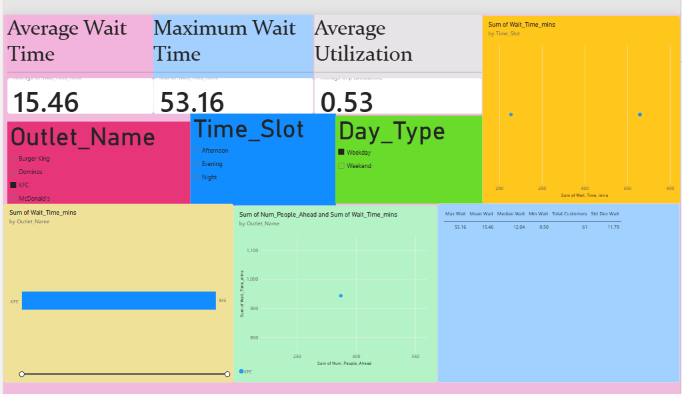

Layout of this report page (visuals, bound fields, positions):
{"tool":"powerbi","page":{"name":"Page 1","canvas":[1920,1080],"ordinal":0},"visuals":[{"type":"cardVisual","title":"Average Wait Time","fields":{"Data":["Avg(Data.Wait_Time_mins)"]},"box":[11.4,0,414.5,281],"z":0},{"type":"cardVisual","title":"Maximum Wait Time","fields":{"Data":["Max(Data.Wait_Time_mins)"]},"box":[425.8,0,454.2,281],"z":1},{"type":"cardVisual","title":"Average Utilization","fields":{"Data":["Avg(Queueing Params.ρ (Utilization))"]},"box":[882.2,0,475.5,280.7],"z":2},{"type":"slicer","fields":{"Values":["Data.Outlet_Name"]},"box":[11.5,303.6,518.4,237.7],"z":3},{"type":"slicer","fields":{"Values":["Data.Time_Slot"]},"box":[529.9,280.7,412.5,260.6],"z":4},{"type":"slicer","fields":{"Values":["Data.Day_Type"]},"box":[942.3,286.4,435.4,249.2],"z":5},{"type":"clusteredBarChart","fields":{"Category":["Data.Outlet_Name"],"Y":["Sum(Data.Wait_Time_mins)"]},"box":[0,535.6,653.1,507],"z":6},{"type":"scatterChart","fields":{"Category":["Data.Time_Slot"],"X":["Sum(Data.Wait_Time_mins)"]},"box":[1357.7,2.9,561.4,532.8],"z":7},{"type":"scatterChart","fields":{"Series":["Data.Outlet_Name"],"X":["Sum(Data.Num_People_Ahead)"],"Y":["Sum(Data.Wait_Time_mins)"]},"box":[653.1,541.3,578.6,501.2],"z":8},{"type":"tableEx","fields":{"Values":["Data.Max Wait","Data.Mean Wait","Data.Median Wait","Data.Min Wait","Data.Total Customers","Data.Std Dev Wait"]},"box":[1231.6,535.6,687.4,507],"z":9}]}

Visuals, with their boxes in screenshot pixels (x1, y1, x2, y2), scaled from the page's 1920x1080 canvas onto the 682x394 screenshot:
"Average Wait Time" cardVisual: 4 0 151 103
"Maximum Wait Time" cardVisual: 151 0 313 103
"Average Utilization" cardVisual: 313 0 482 102
slicer - Data.Outlet_Name: 4 111 188 197
slicer - Data.Time_Slot: 188 102 335 197
slicer - Data.Day_Type: 335 104 489 195
clusteredBarChart - Data.Outlet_Name x Sum(Data.Wait_Time_mins): 0 195 232 380
scatterChart - Data.Time_Slot x Sum(Data.Wait_Time_mins): 482 1 681 195
scatterChart - Data.Outlet_Name x Sum(Data.Num_People_Ahead): 232 197 438 380
tableEx - Data.Max Wait x Data.Mean Wait: 437 195 681 380
